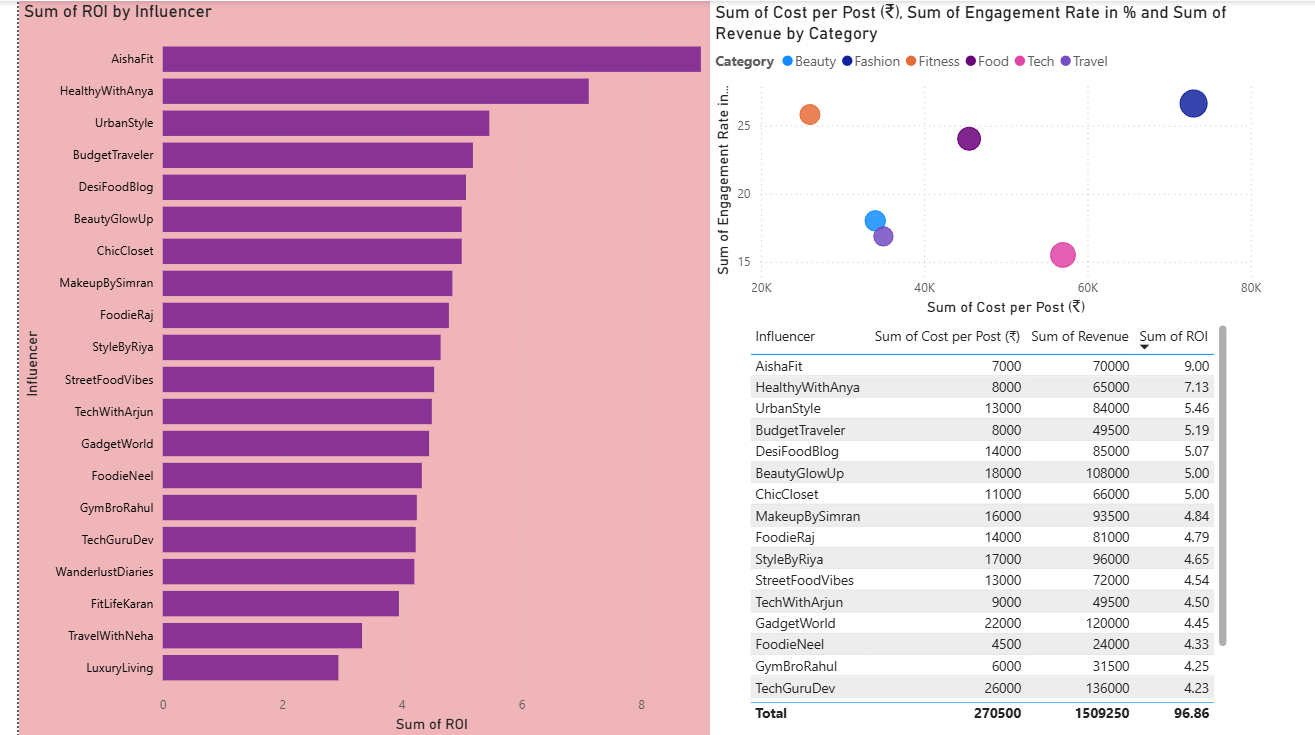

Layout of this report page (visuals, bound fields, positions):
{"tool":"powerbi","page":{"name":"Page 2","canvas":[1280,720],"ordinal":1},"visuals":[{"type":"barChart","fields":{"Category":["Sheet1.Influencer"],"Y":["Sum(Sheet1.ROI)"]},"box":[0,0,676.3,720.4],"z":0},{"type":"scatterChart","fields":{"X":["Sum(Sheet1.Cost per Post (₹))"],"Y":["Sum(Sheet1.Engagement Rate in %)"],"Size":["Sum(Sheet1.Revenue)"],"Series":["Sheet1.Category"]},"box":[676.3,0,544,312.4],"z":1000},{"type":"tableEx","fields":{"Values":["Sheet1.Influencer","Sum(Sheet1.Cost per Post (₹))","Sum(Sheet1.Revenue)","Sum(Sheet1.ROI)"]},"box":[709.3,312.4,477.8,399.4],"z":1001}]}

Visuals, with their boxes in screenshot pixels (x1, y1, x2, y2), scaled from the page's 1280x720 canvas onto the 1315x735 screenshot:
barChart - Sheet1.Influencer x Sum(Sheet1.ROI): {"x1": 0, "y1": 0, "x2": 695, "y2": 734}
scatterChart - Sum(Sheet1.Cost per Post (₹)) x Sum(Sheet1.Engagement Rate in %): {"x1": 695, "y1": 0, "x2": 1254, "y2": 319}
tableEx - Sheet1.Influencer x Sum(Sheet1.Cost per Post (₹)): {"x1": 729, "y1": 319, "x2": 1220, "y2": 727}
